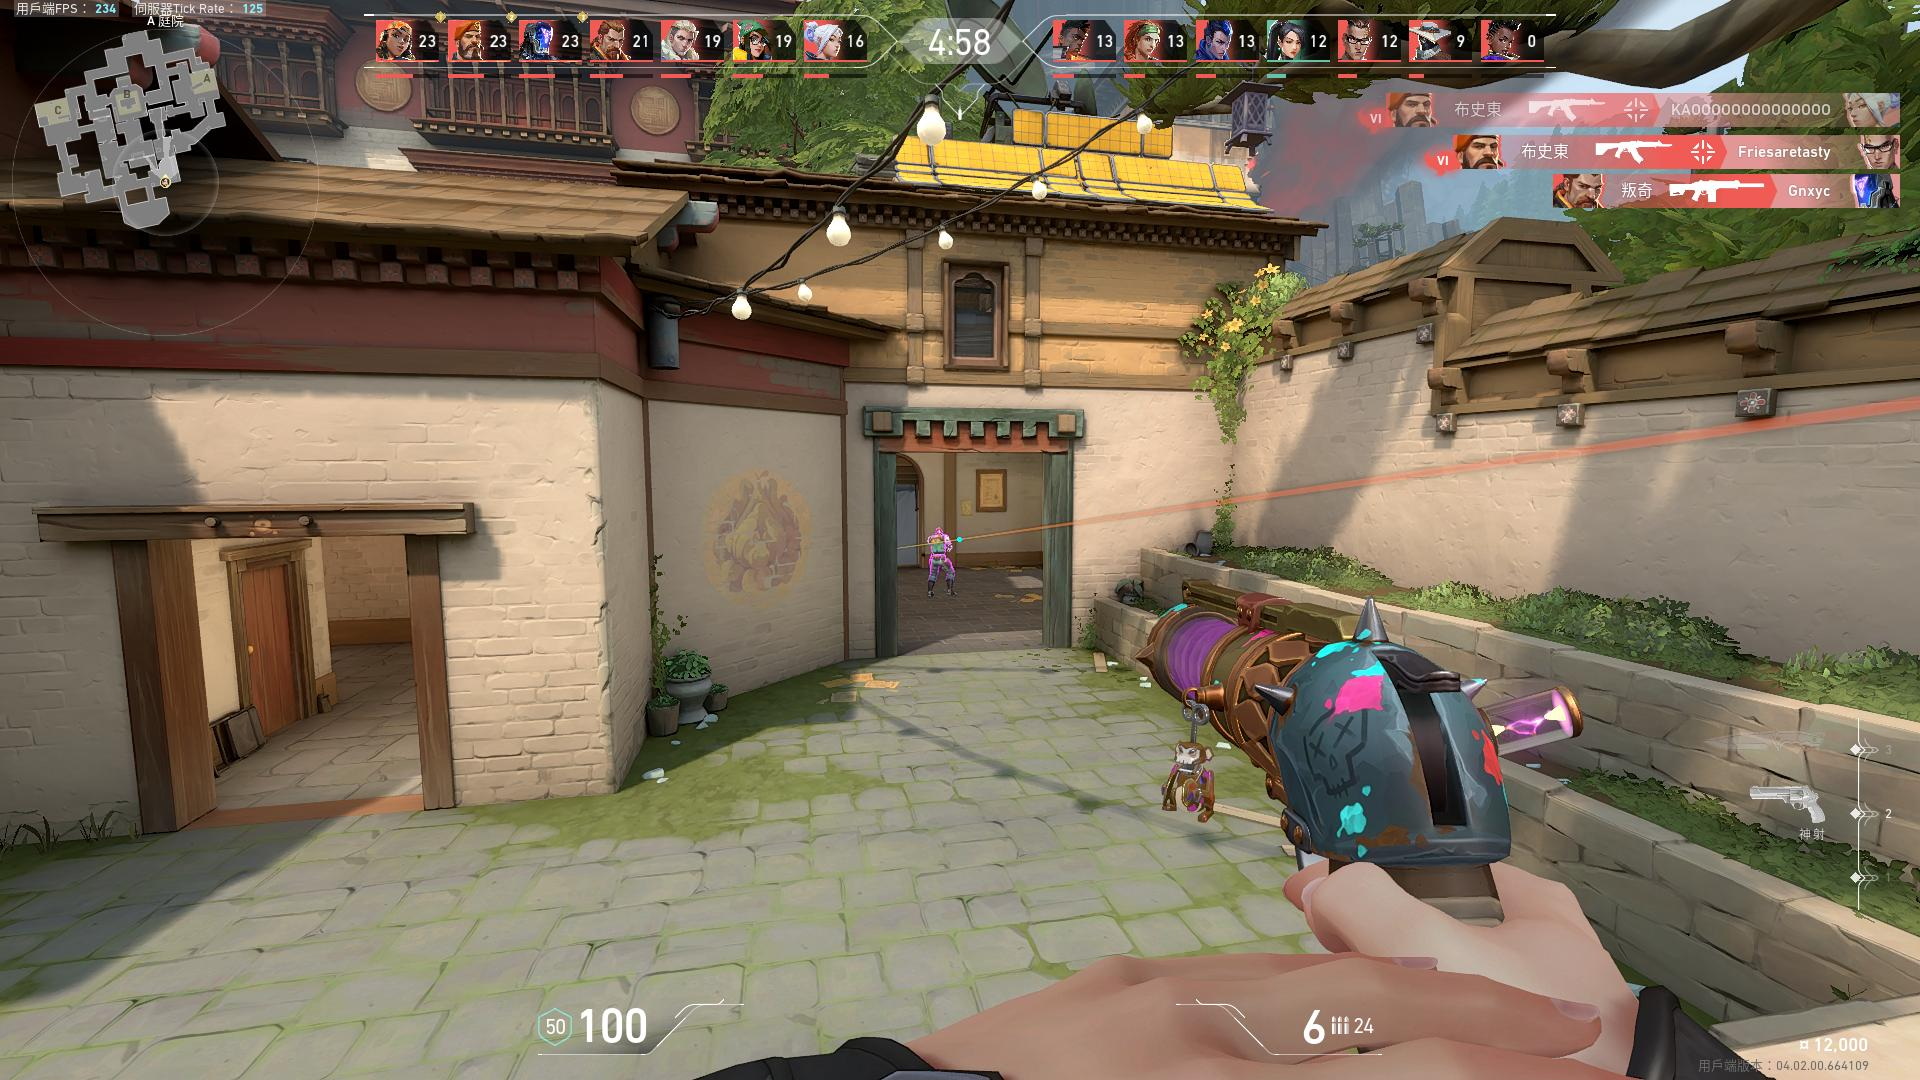enemyBody: (932, 535, 944, 553)
enemyHead: (936, 530, 942, 534)
